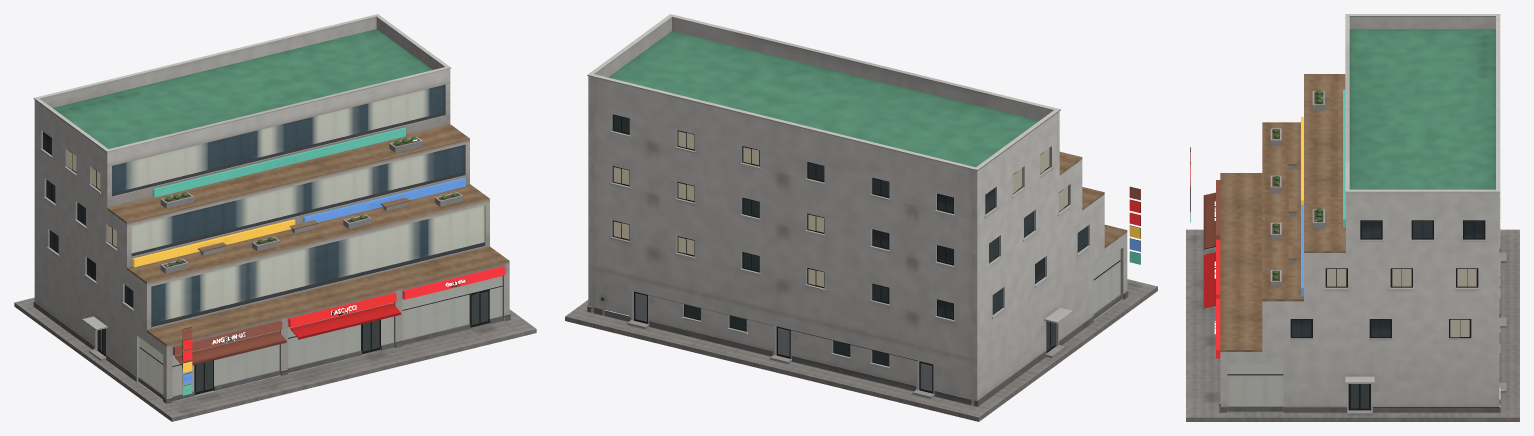
The model's file is IlsanTerracePark01_LOD2.fbx.
3 renders of one model, left to right at view 1: azimuth 30°, elevation 25°; view 2: azimuth 150°, elevation 25°; view 3: azimuth 270°, elevation 25°, orthographic. The views are drawn at different scales.
Parts seen in each view (by area): view 1: IlsanTerracePark01_LOD2; view 2: IlsanTerracePark01_LOD2; view 3: IlsanTerracePark01_LOD2.
Boxes of the visible parts, <box> form: IlsanTerracePark01_LOD2: <box>14,14,536,421</box>; IlsanTerracePark01_LOD2: <box>565,14,1157,421</box>; IlsanTerracePark01_LOD2: <box>1186,14,1519,421</box>.
Size of the model in its own units: 32 by 17.78 by 23.9.
1 material, 1 textured.
